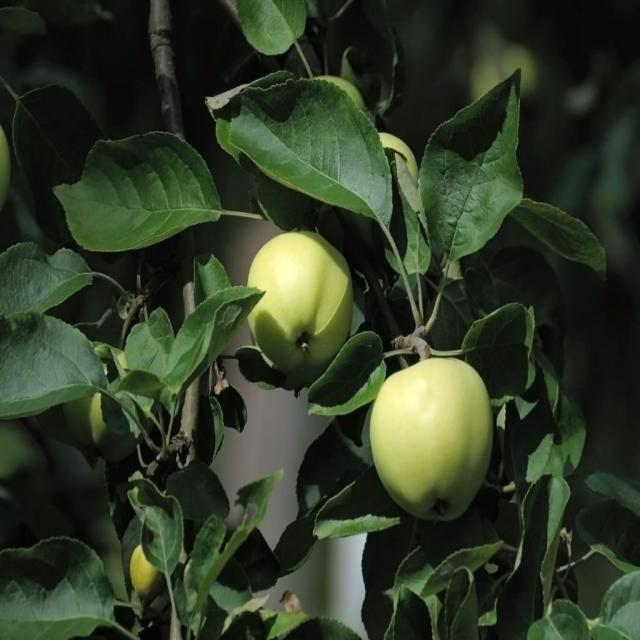Green Apple: (375, 362, 496, 518), (249, 227, 353, 376), (72, 345, 141, 450), (364, 122, 423, 209), (130, 545, 160, 593)
